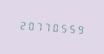five: (65, 20, 72, 35), (57, 20, 64, 34)
nine: (73, 21, 80, 35)
seven: (33, 18, 40, 33), (41, 19, 48, 33)
two: (17, 17, 24, 32)
zero: (49, 19, 56, 34), (25, 18, 32, 32)
